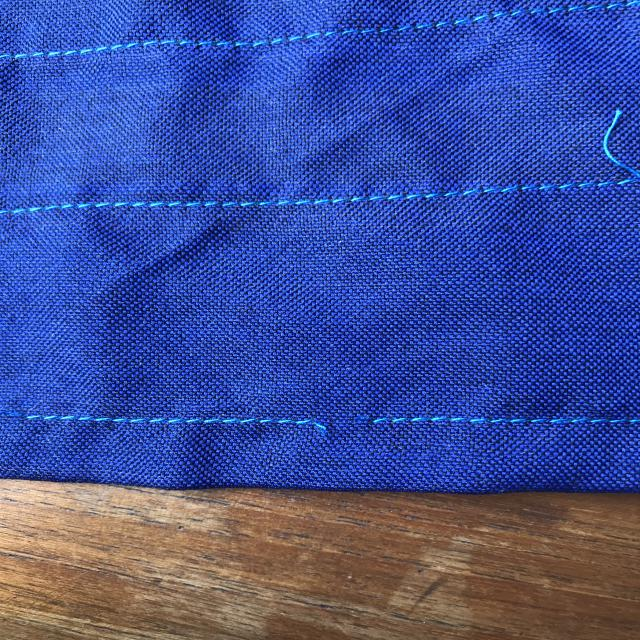broken: (283, 400, 404, 448)
good: (162, 180, 339, 227)
